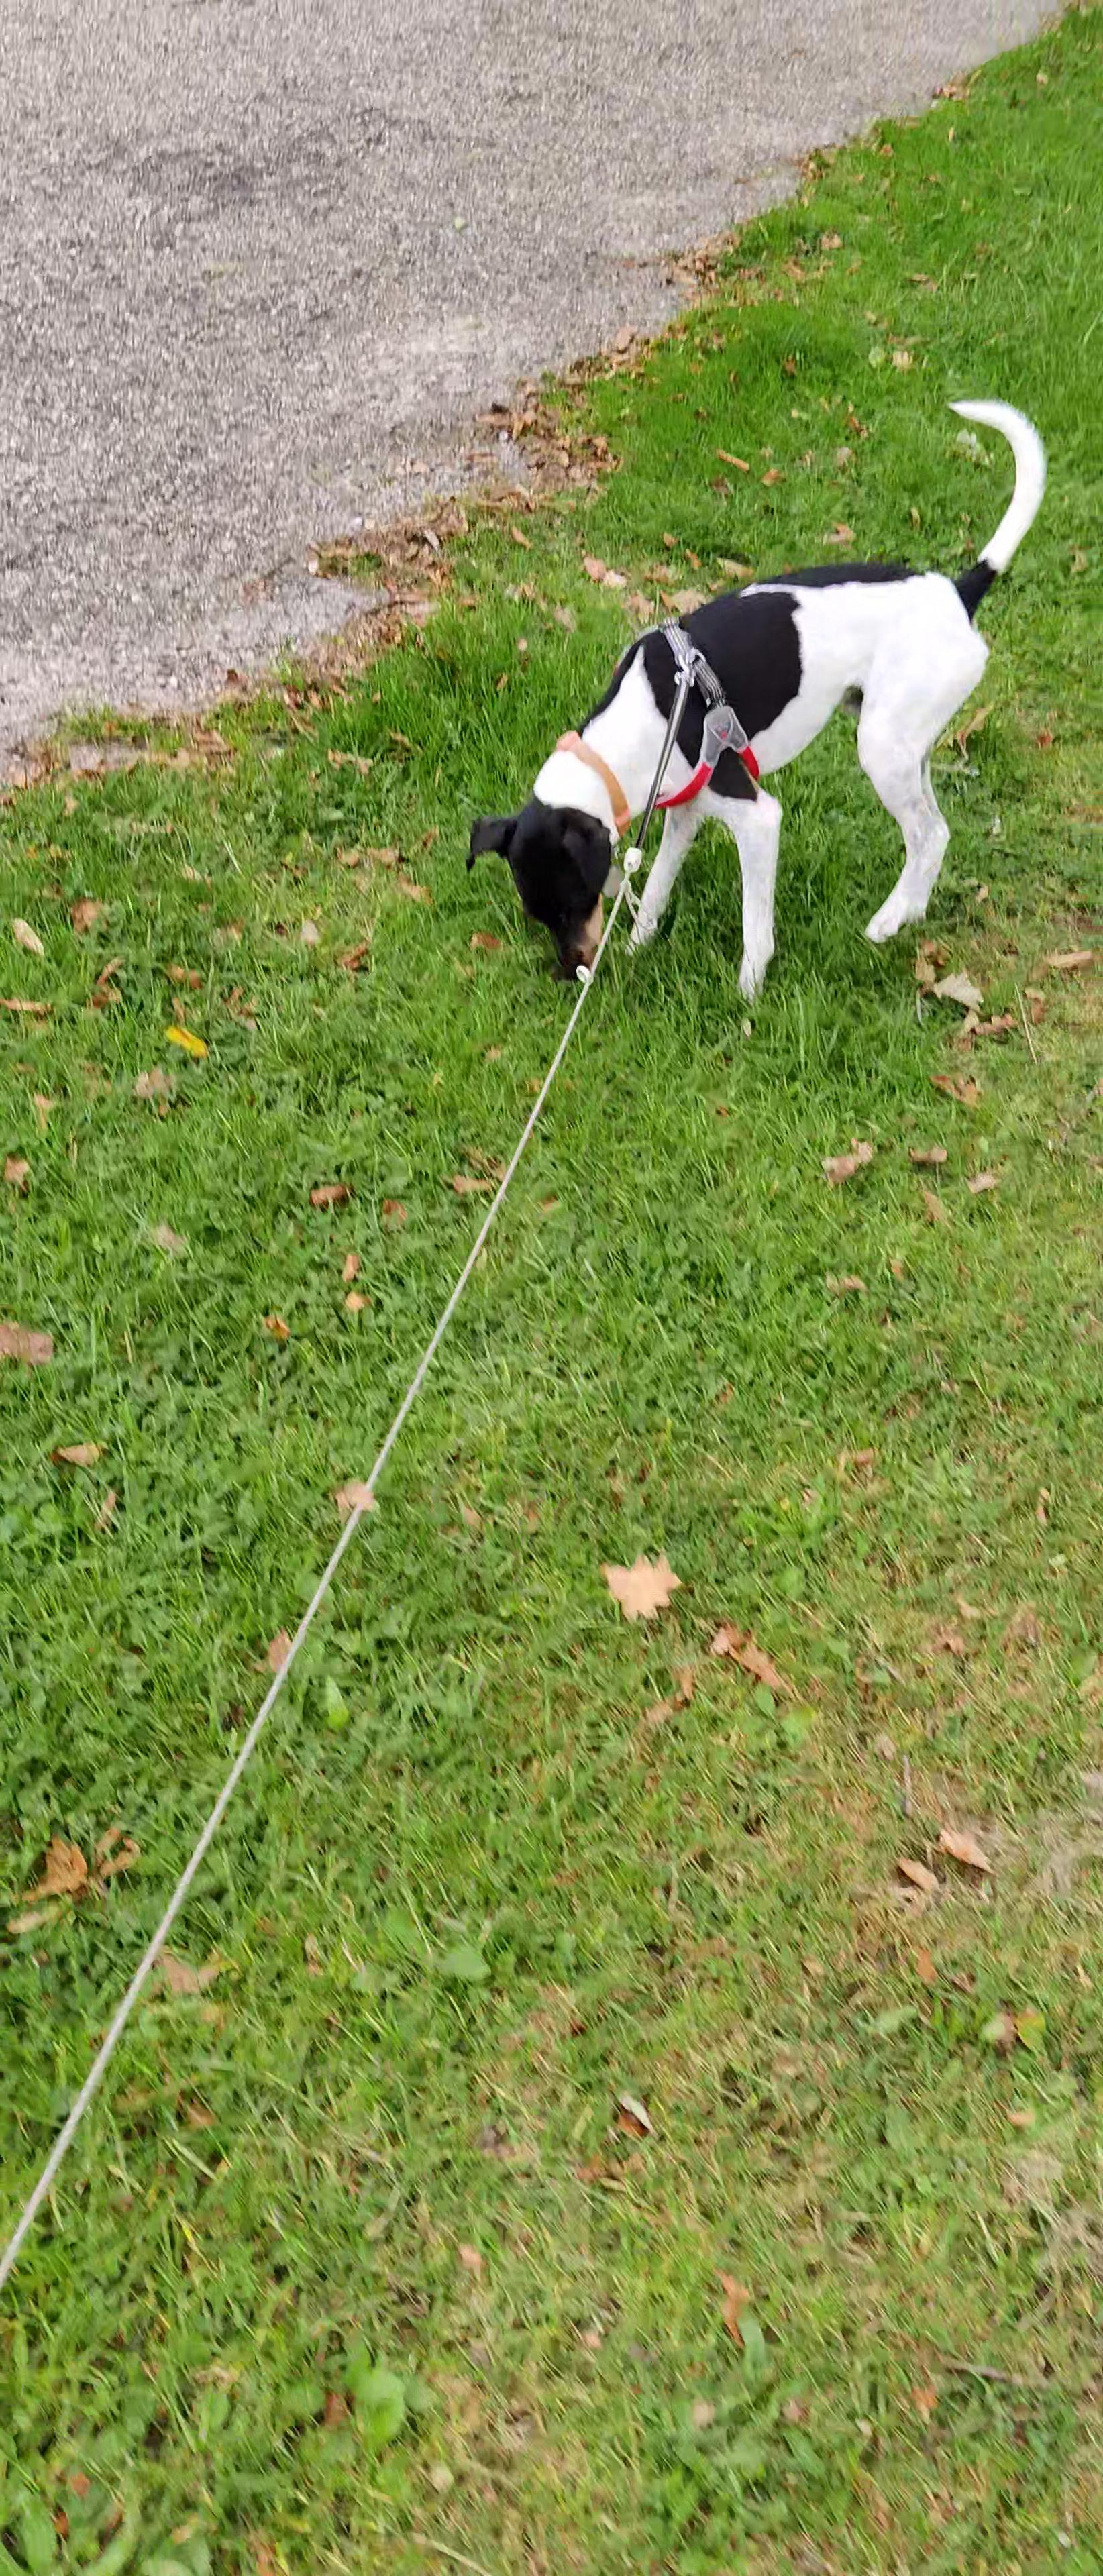Dog: (457, 394, 1049, 1005)
